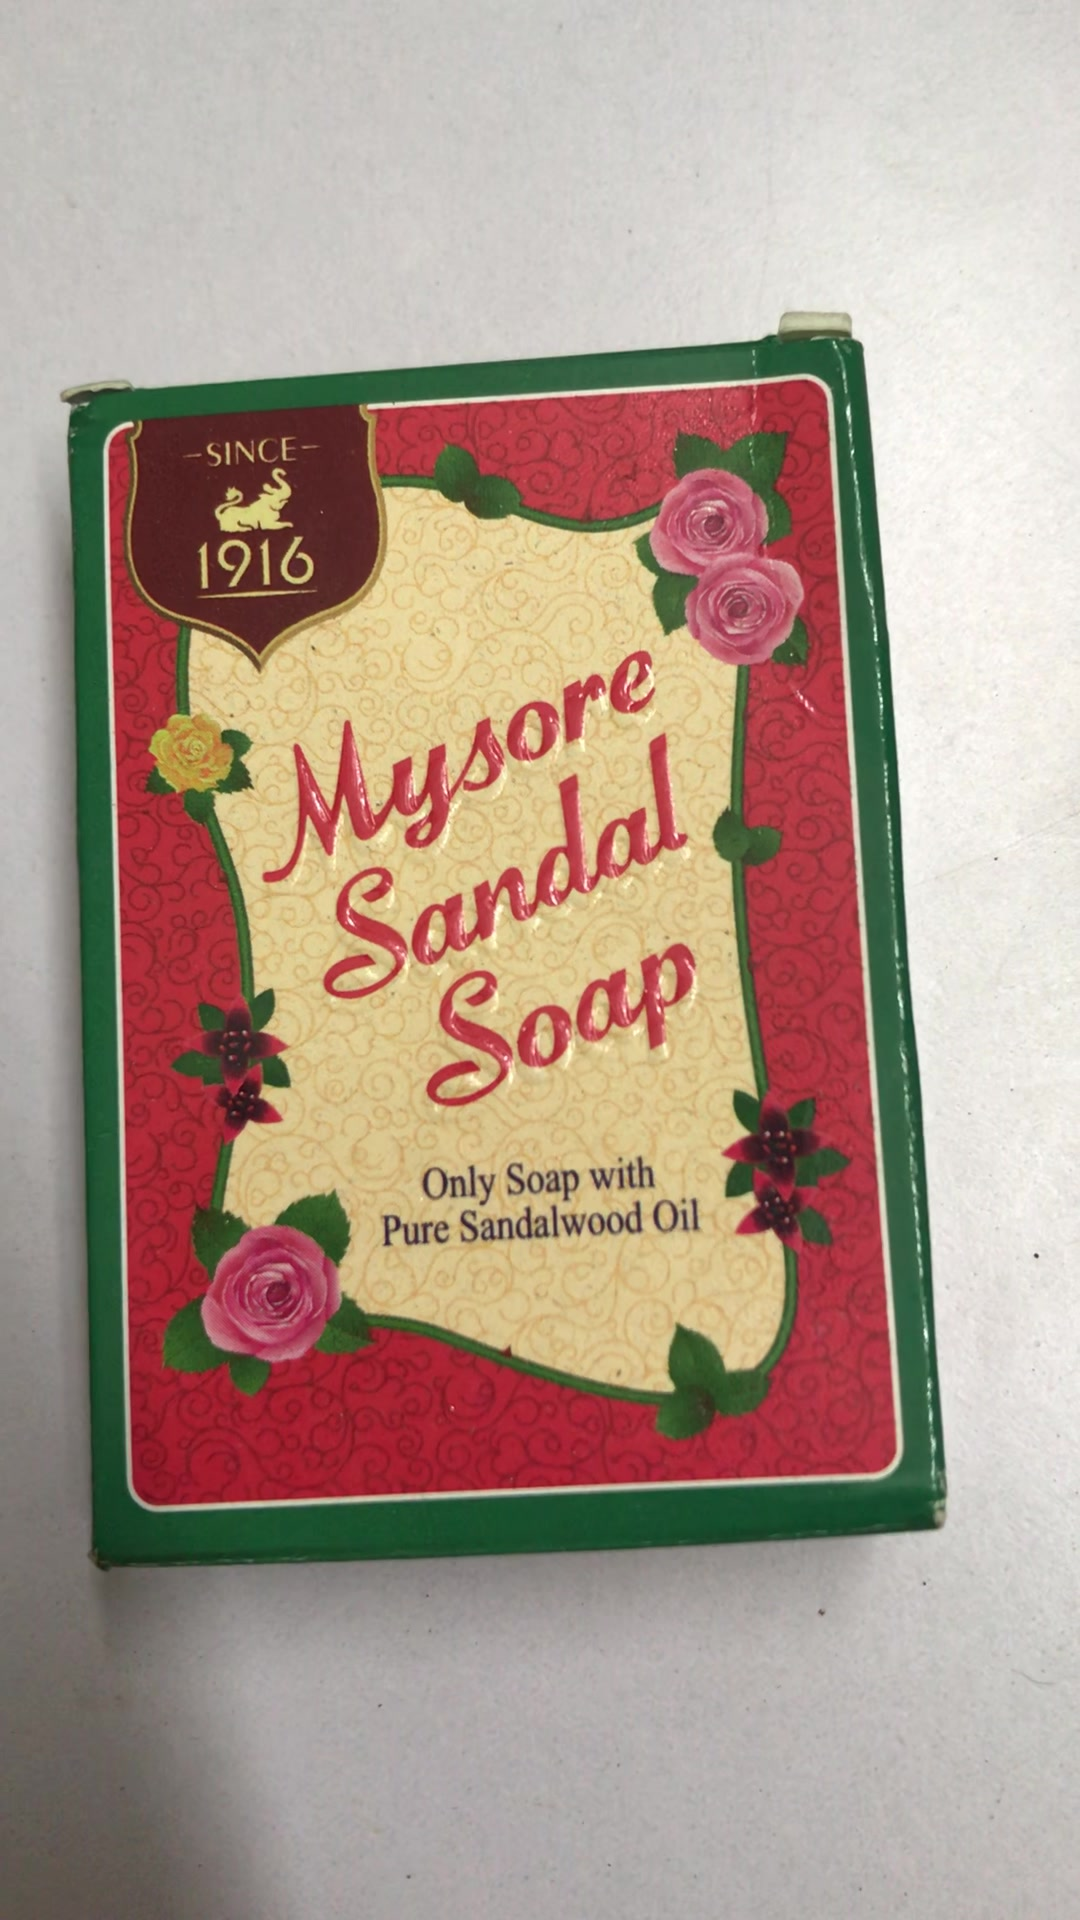mysore sandal soap: (76, 342, 949, 1540)
